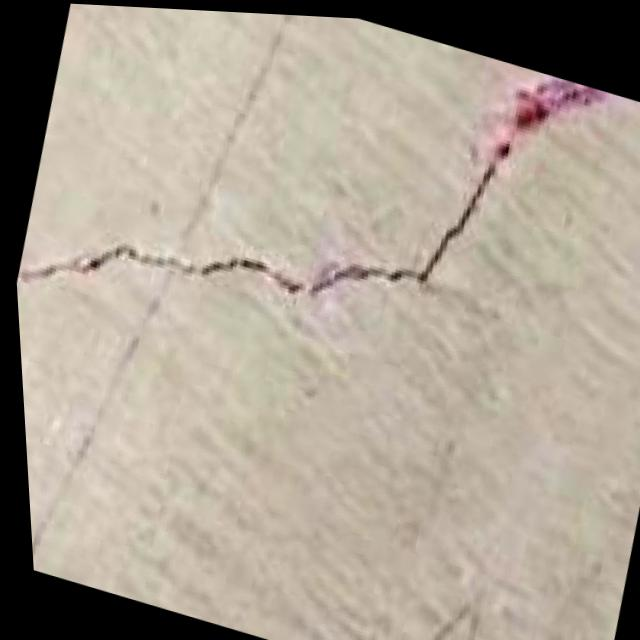Crack: (0, 0, 631, 460)
